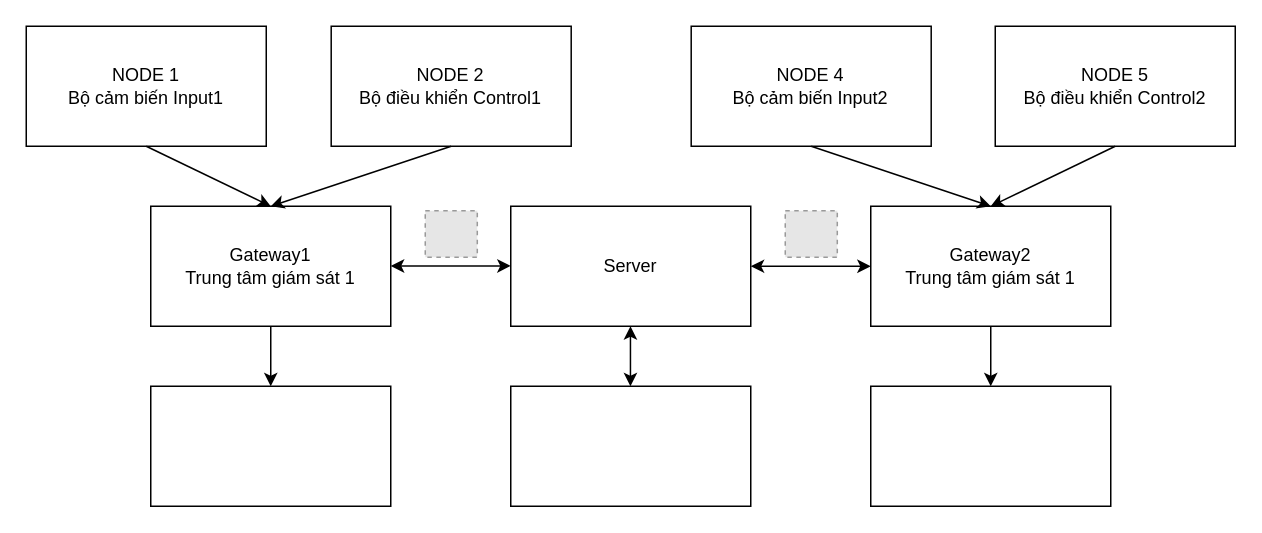
The diagram is 1262 pixels wide and 533 high, and some of its shapes have lost their labels. Grey dashed boxes stand in for pictures. Here are the shapes that lost their labels. From the top down, the centre of each, then its label:
At point (270, 445): "NODE3 Đầu ra Output1".
At point (630, 445): "Database".
At point (990, 445): "NODE 6 Đầu ra Output2".
